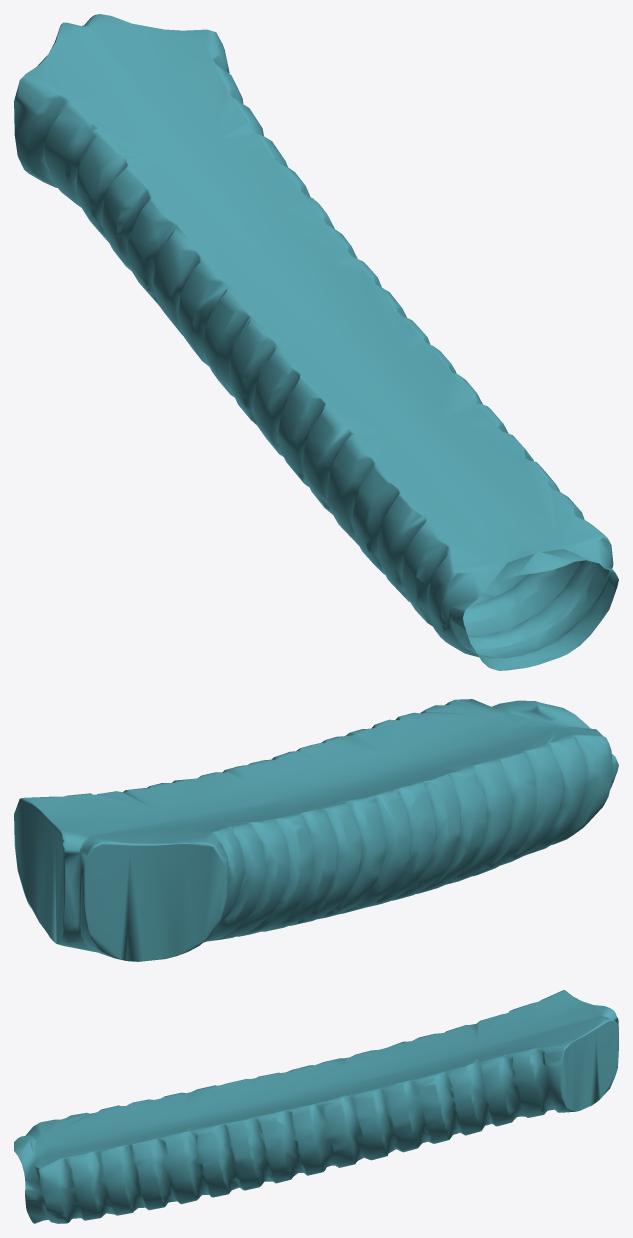
The picture shows the model from 3 angles, top to bottom: view 1: azimuth 30°, elevation 25°; view 2: azimuth 150°, elevation 25°; view 3: azimuth 270°, elevation 25°; orthographic projection. The views are drawn at different scales.
Parts seen in each view (by area): view 1: 气管; view 2: 气管; view 3: 气管.
Part boxes in pixels (x1,y1,x2,y2): 气管: (14,14,618,670); 气管: (14,699,618,961); 气管: (14,990,618,1223).
Bounding box in the file's own units: 0.04 × 0.0574 × 0.1553.
